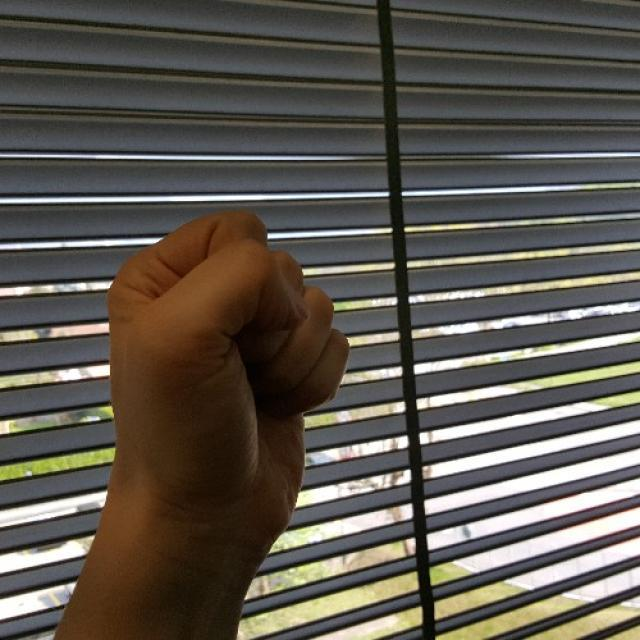fist: (98, 200, 363, 550)
